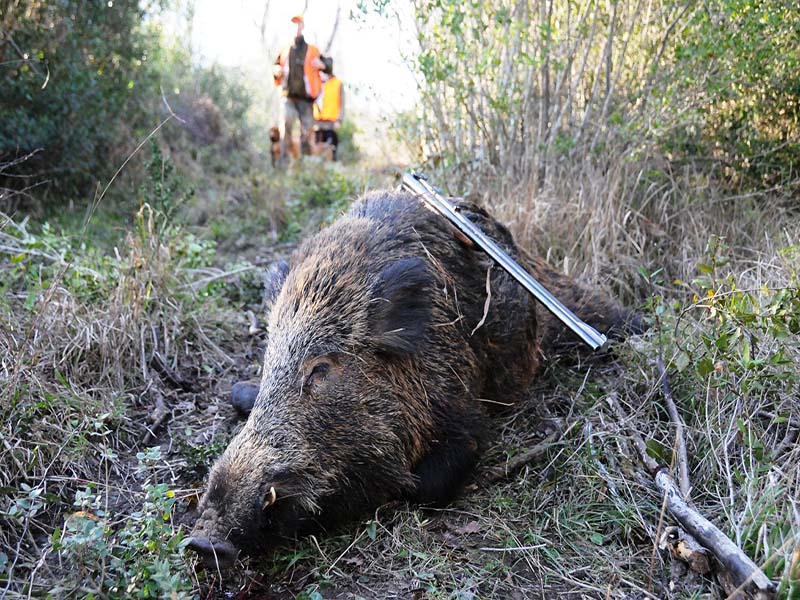cacciatore: (268, 7, 335, 177)
cinghiale: (176, 187, 652, 573)
